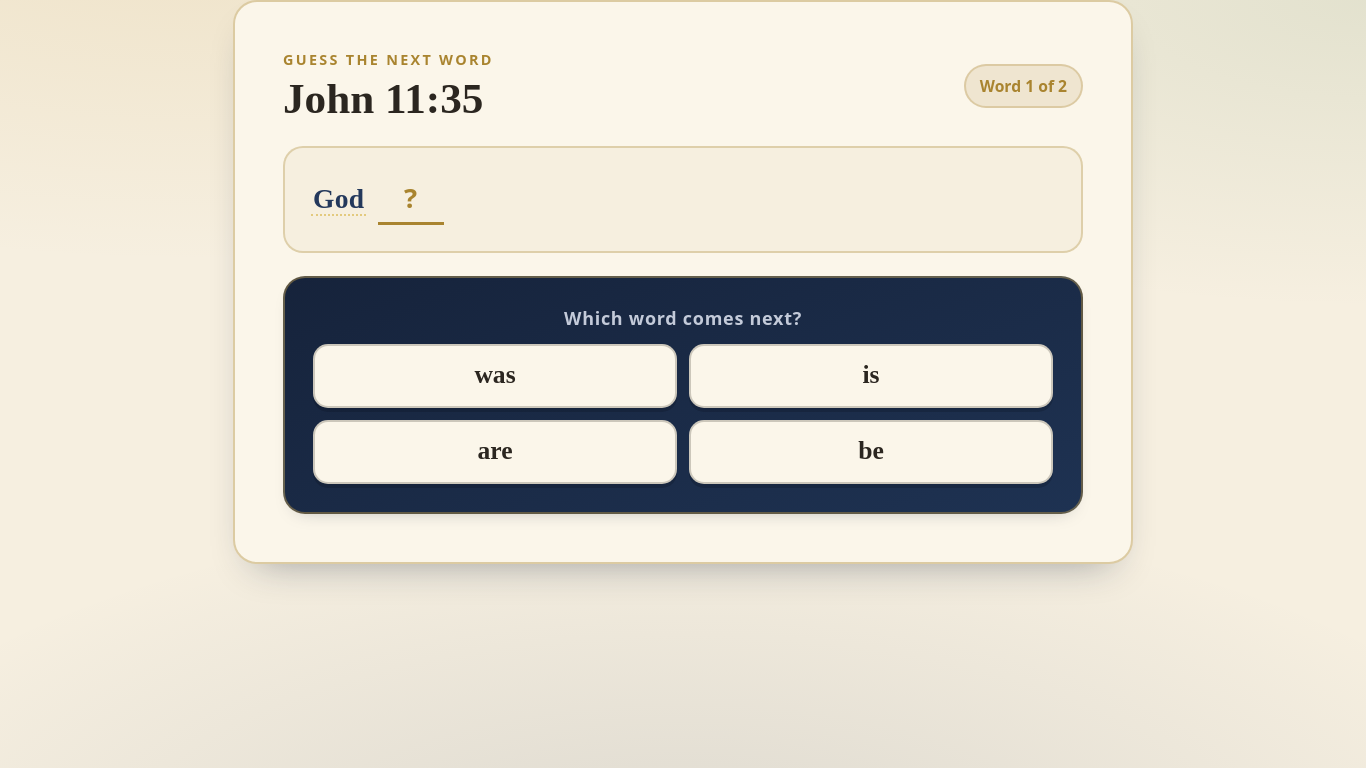
Test: Guess the Next Word screen › starts with the opening words as context, then asks for each next word
Expected: the text "Guess the Next Word" is shown, [283, 50, 494, 69]
Expected: the text "Word 1 of 2" is shown, [964, 64, 1083, 108]
Click the button with aria-label "Choice: was": (495,376) [313, 344, 677, 408]
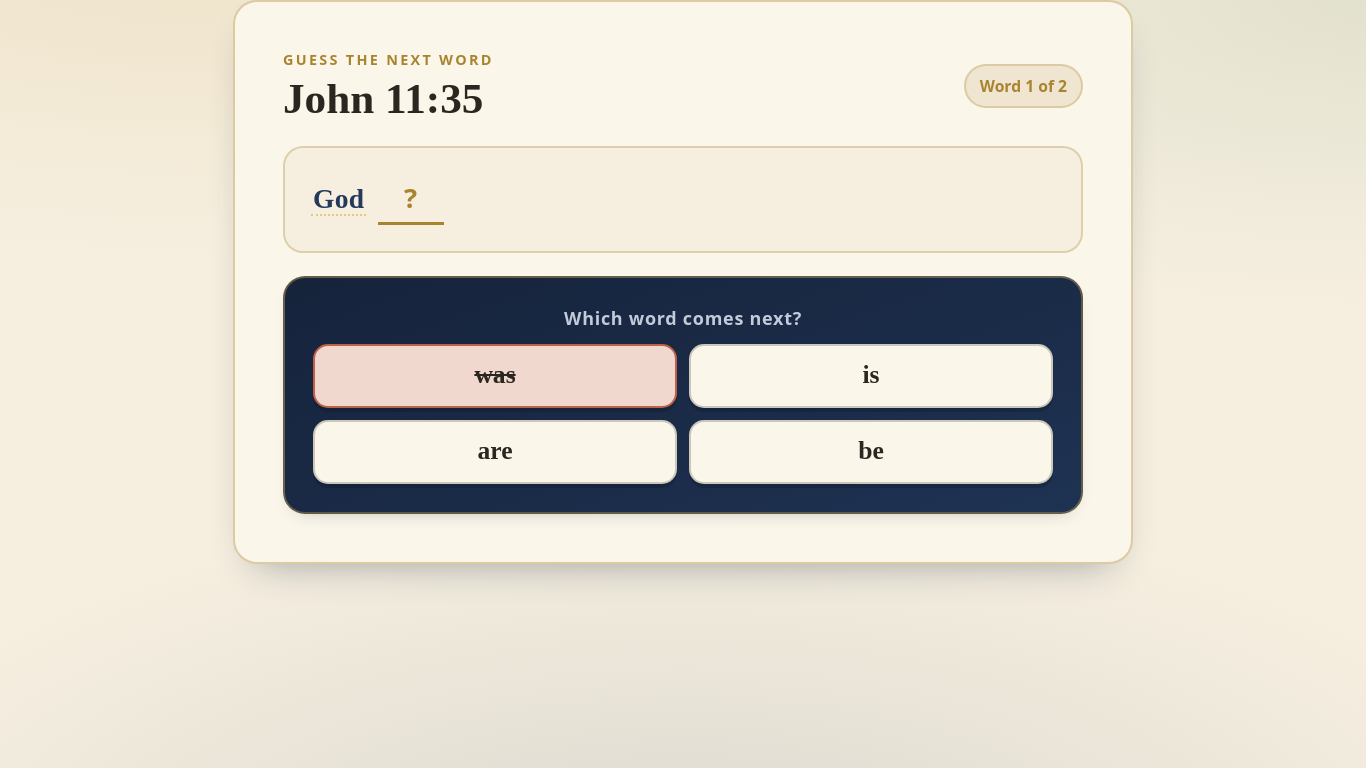
Expected: the button with aria-label "Choice: was" is disabled, [313, 344, 677, 408]
Click the button with aria-label "Choice: is": (871,376) [689, 344, 1053, 408]
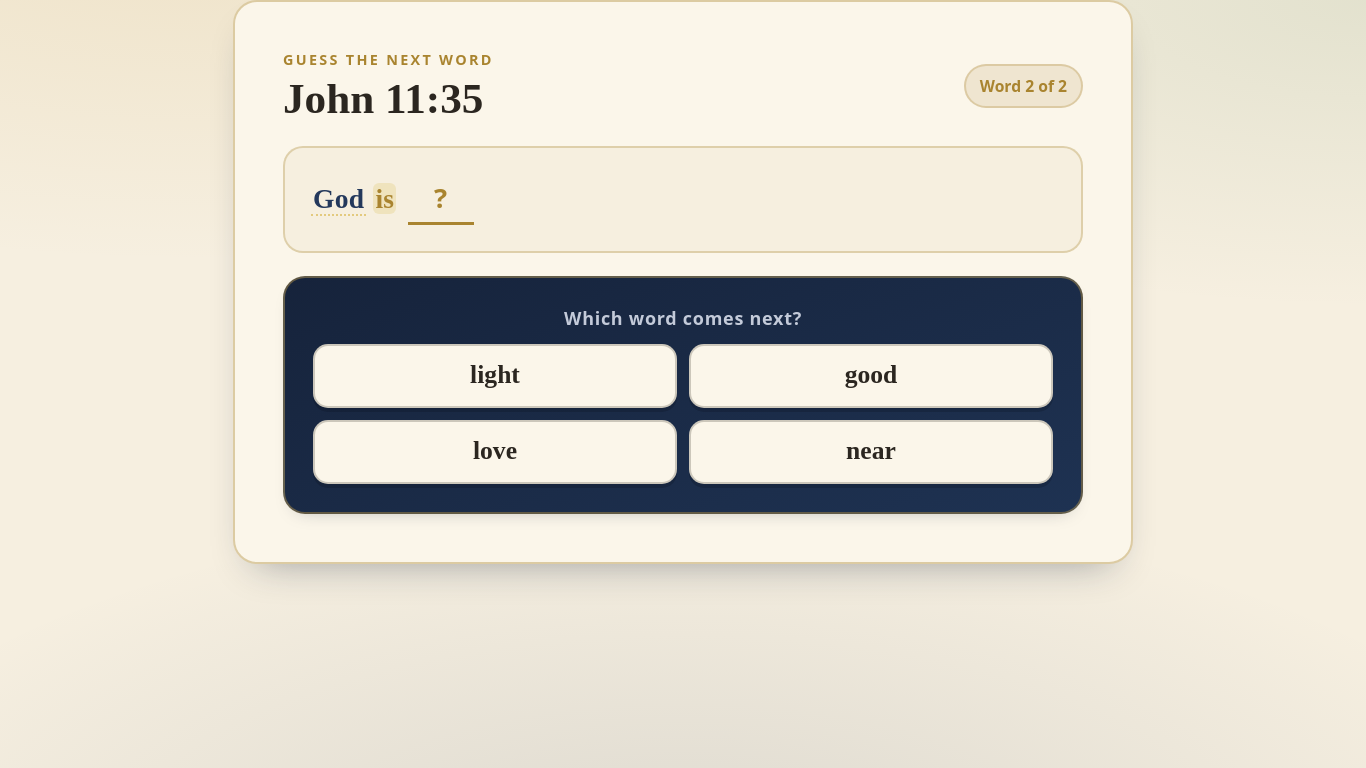
Expected: the text "Word 2 of 2" is shown, [964, 64, 1083, 108]
Note: Number keys pick a choice: 3 is "love".
Press 3
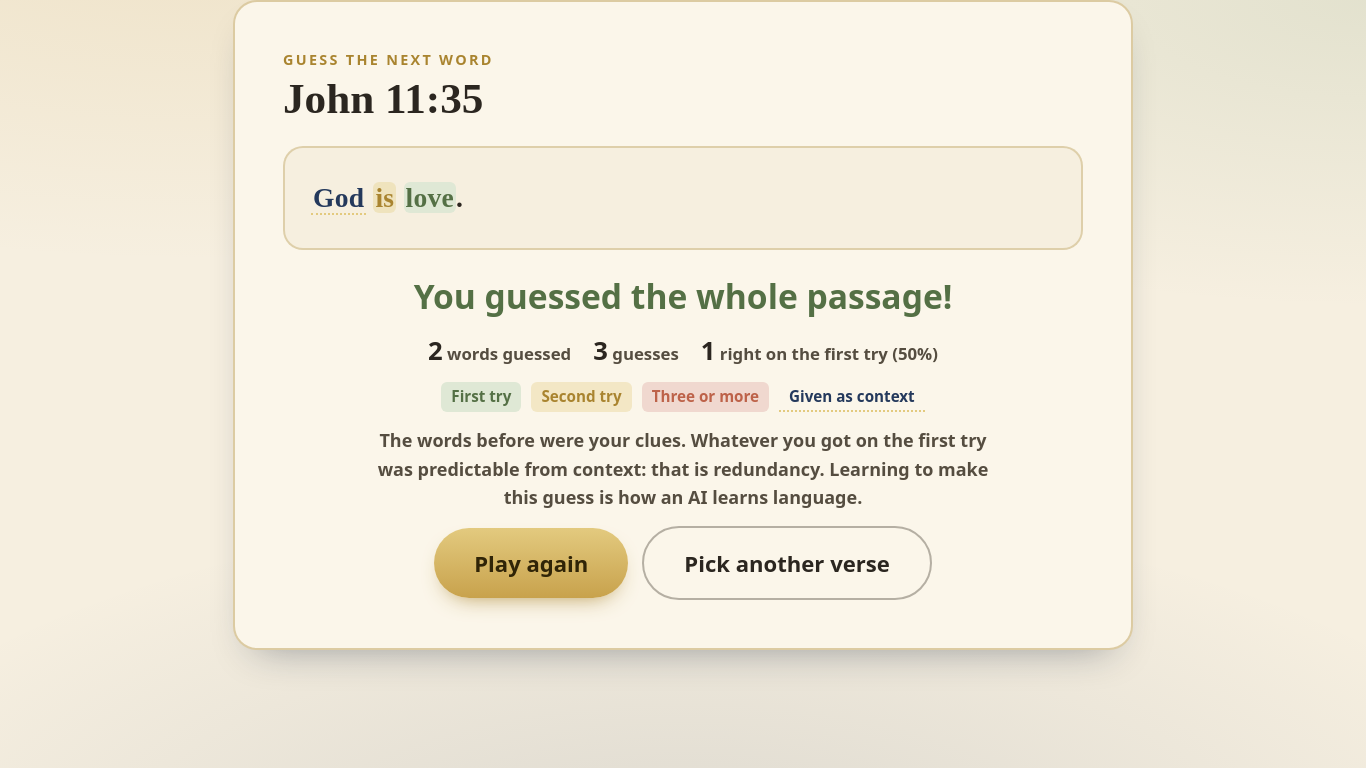
Expected: the message shows "You guessed the whole passage!", [414, 273, 952, 319]
Expected: the message shows "2 words guessed", [378, 273, 988, 600]
Expected: the message shows "3 guesses", [378, 273, 988, 600]
